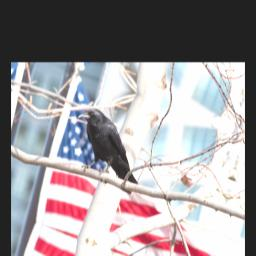Crow: (64, 102, 155, 194)
